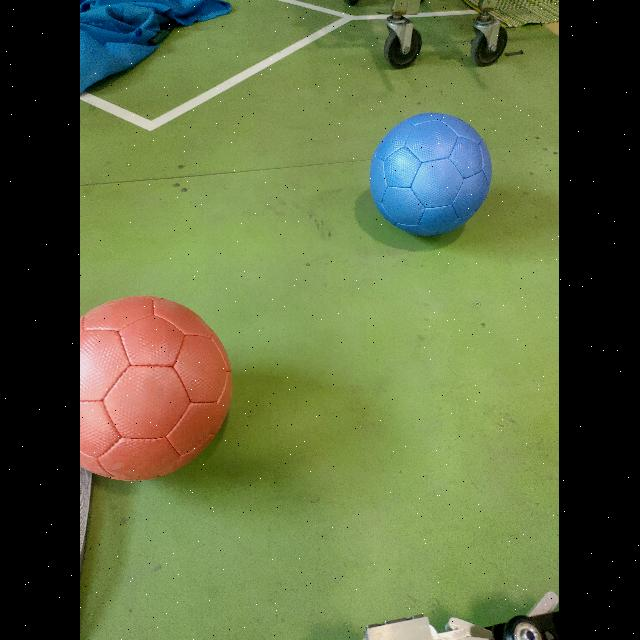B: (372, 113, 492, 237)
R: (80, 292, 230, 483)
